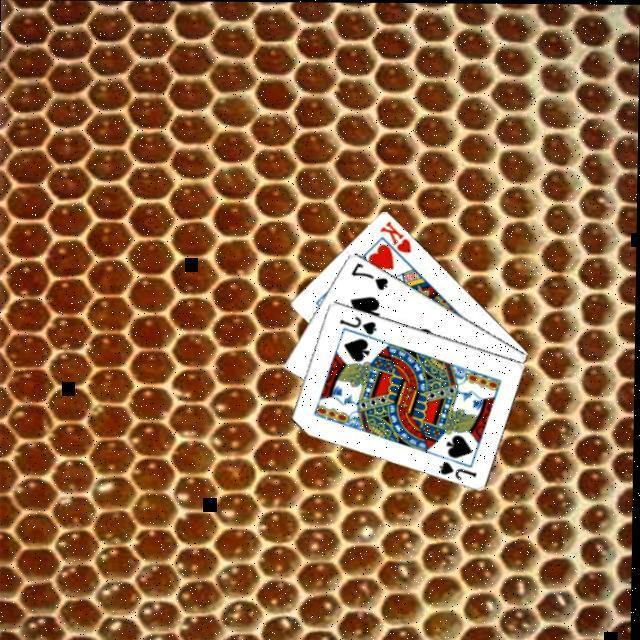7S: (348, 258, 390, 292)
JS: (336, 312, 378, 336), (436, 456, 478, 480)
KH: (376, 216, 414, 254)
